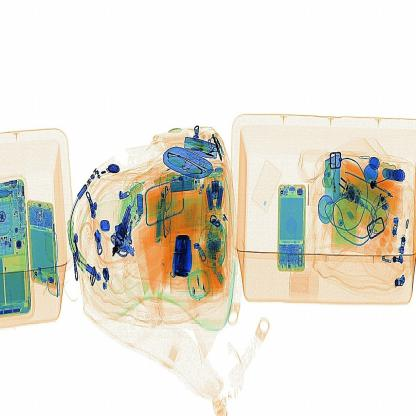scissors: (170, 229, 198, 287)
